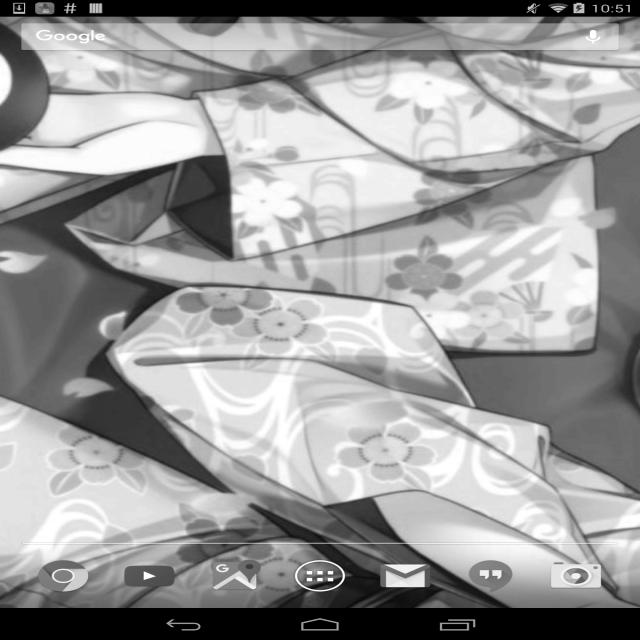EditText: (15, 20, 630, 54)
ImageView: (202, 555, 276, 593), (540, 552, 608, 592), (371, 554, 442, 590), (30, 554, 96, 592), (116, 561, 193, 589), (466, 556, 516, 592)
